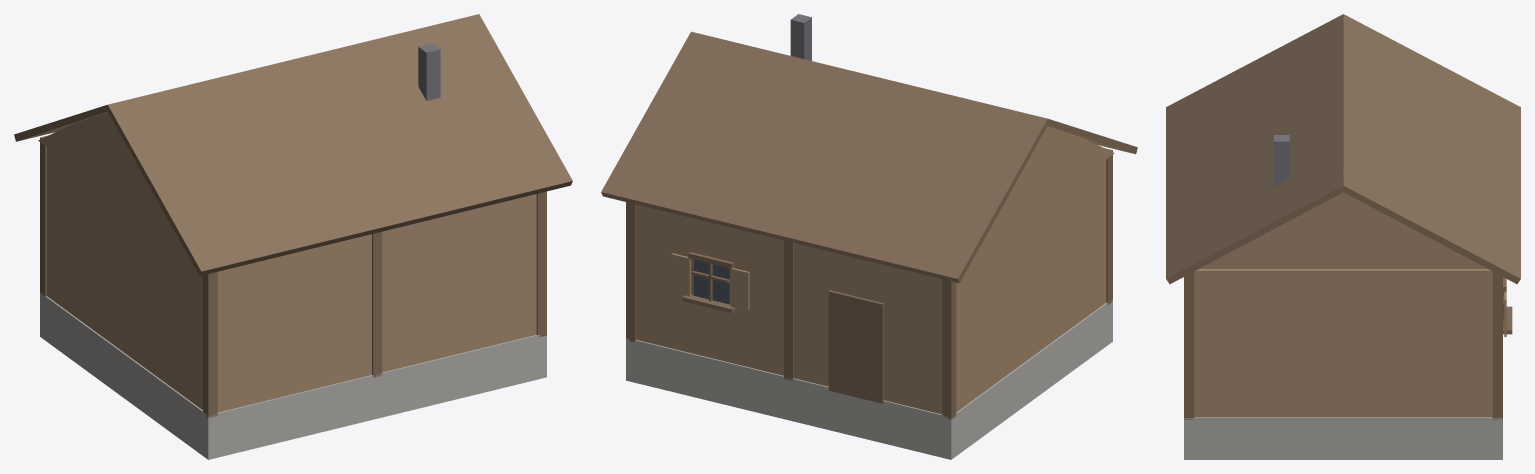
File: mine_house.glb
3 renders of one model, left to right at view 1: azimuth 30°, elevation 25°; view 2: azimuth 150°, elevation 25°; view 3: azimuth 270°, elevation 25°, orthographic. The views are drawn at different scales.
Visible parts, largest first — view 1: mine_house; view 2: mine_house; view 3: mine_house.
Boxes of the visible parts, x1,y1,x2,y2 form: mine_house: (14,14,572,459); mine_house: (601,14,1137,459); mine_house: (1166,14,1520,459).
Bounding box in the file's own units: 7.9 × 6.25 × 6.9.
